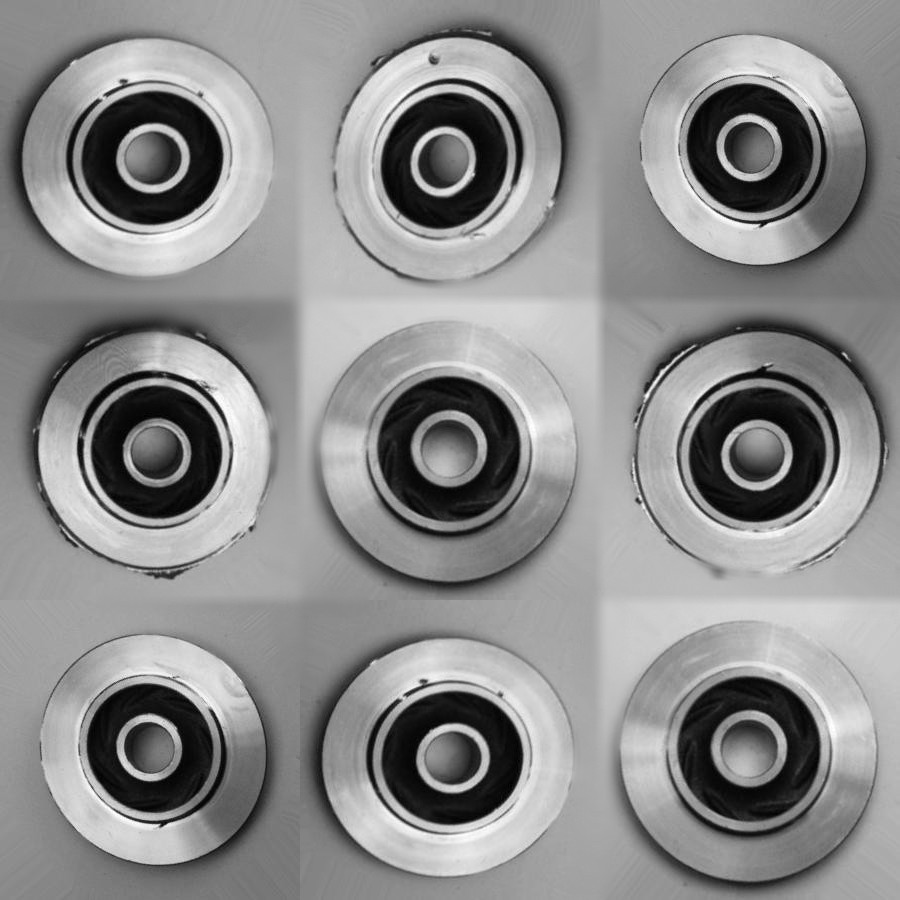pump_impeller: (614, 303, 900, 592), (316, 307, 592, 603), (614, 611, 887, 900), (310, 10, 585, 290), (619, 15, 880, 288), (12, 33, 286, 289), (31, 319, 284, 591), (317, 625, 581, 885), (34, 620, 287, 881)
